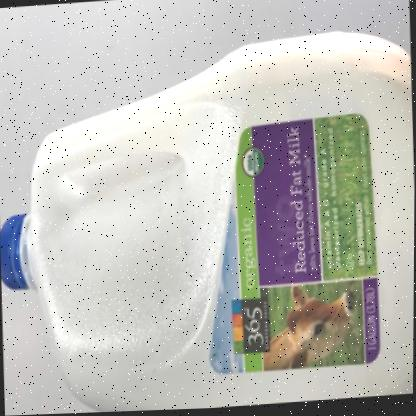Plastic: (0, 34, 415, 413)
